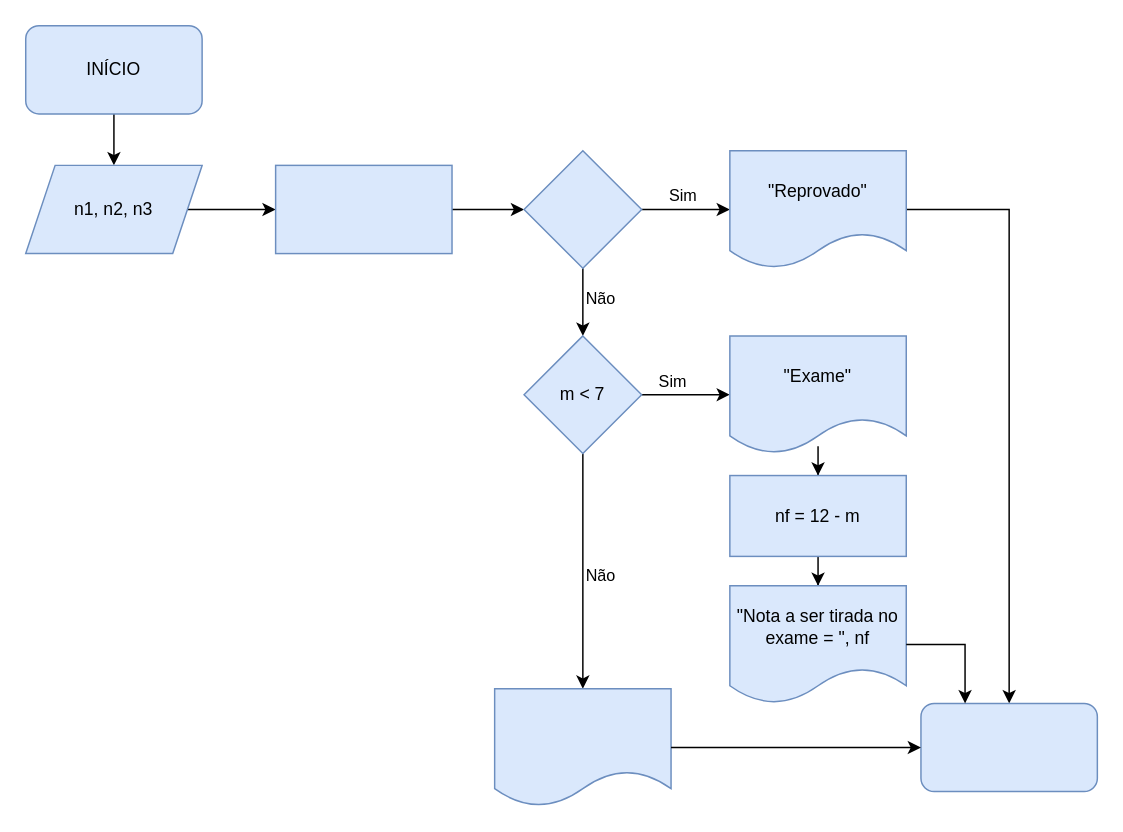
Image size: 1123x832. Some labels were removed from this diagram. Here are the shapes that lost their labels. From the top down, the centre of each, then its label:
point 363,209: m = (n1 + n2 + n3) /3
point 582,208: m < 3
point 582,746: "Aprovado"
point 1008,747: FIM
